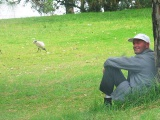male: (124, 33, 152, 62)
